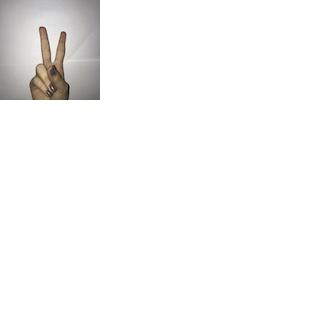scissors: (18, 22, 74, 100)
